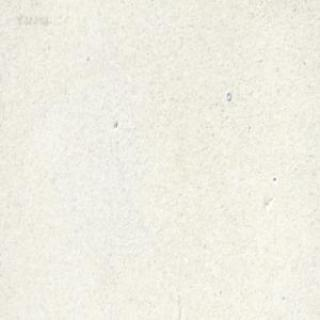Washertrack_idkeyframe: (224, 89, 230, 101)
